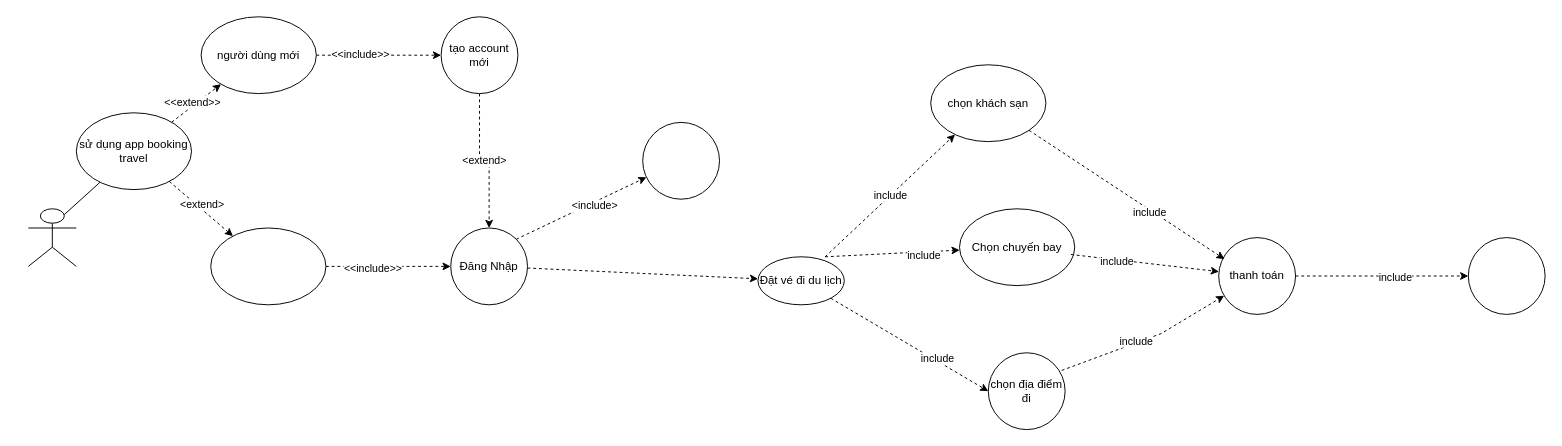
Some shapes in this 1562 by 446 pixel diagram are drawn without their labels. Here are the shapes that lost their labels. From the top down, the centre of each, then its label:
(681,160): Xem lịch sử đặt tour
(51,237): User (Khách Hàng)
(268,266): người dùng cũ
(1506,275): xác nhận thông tin
